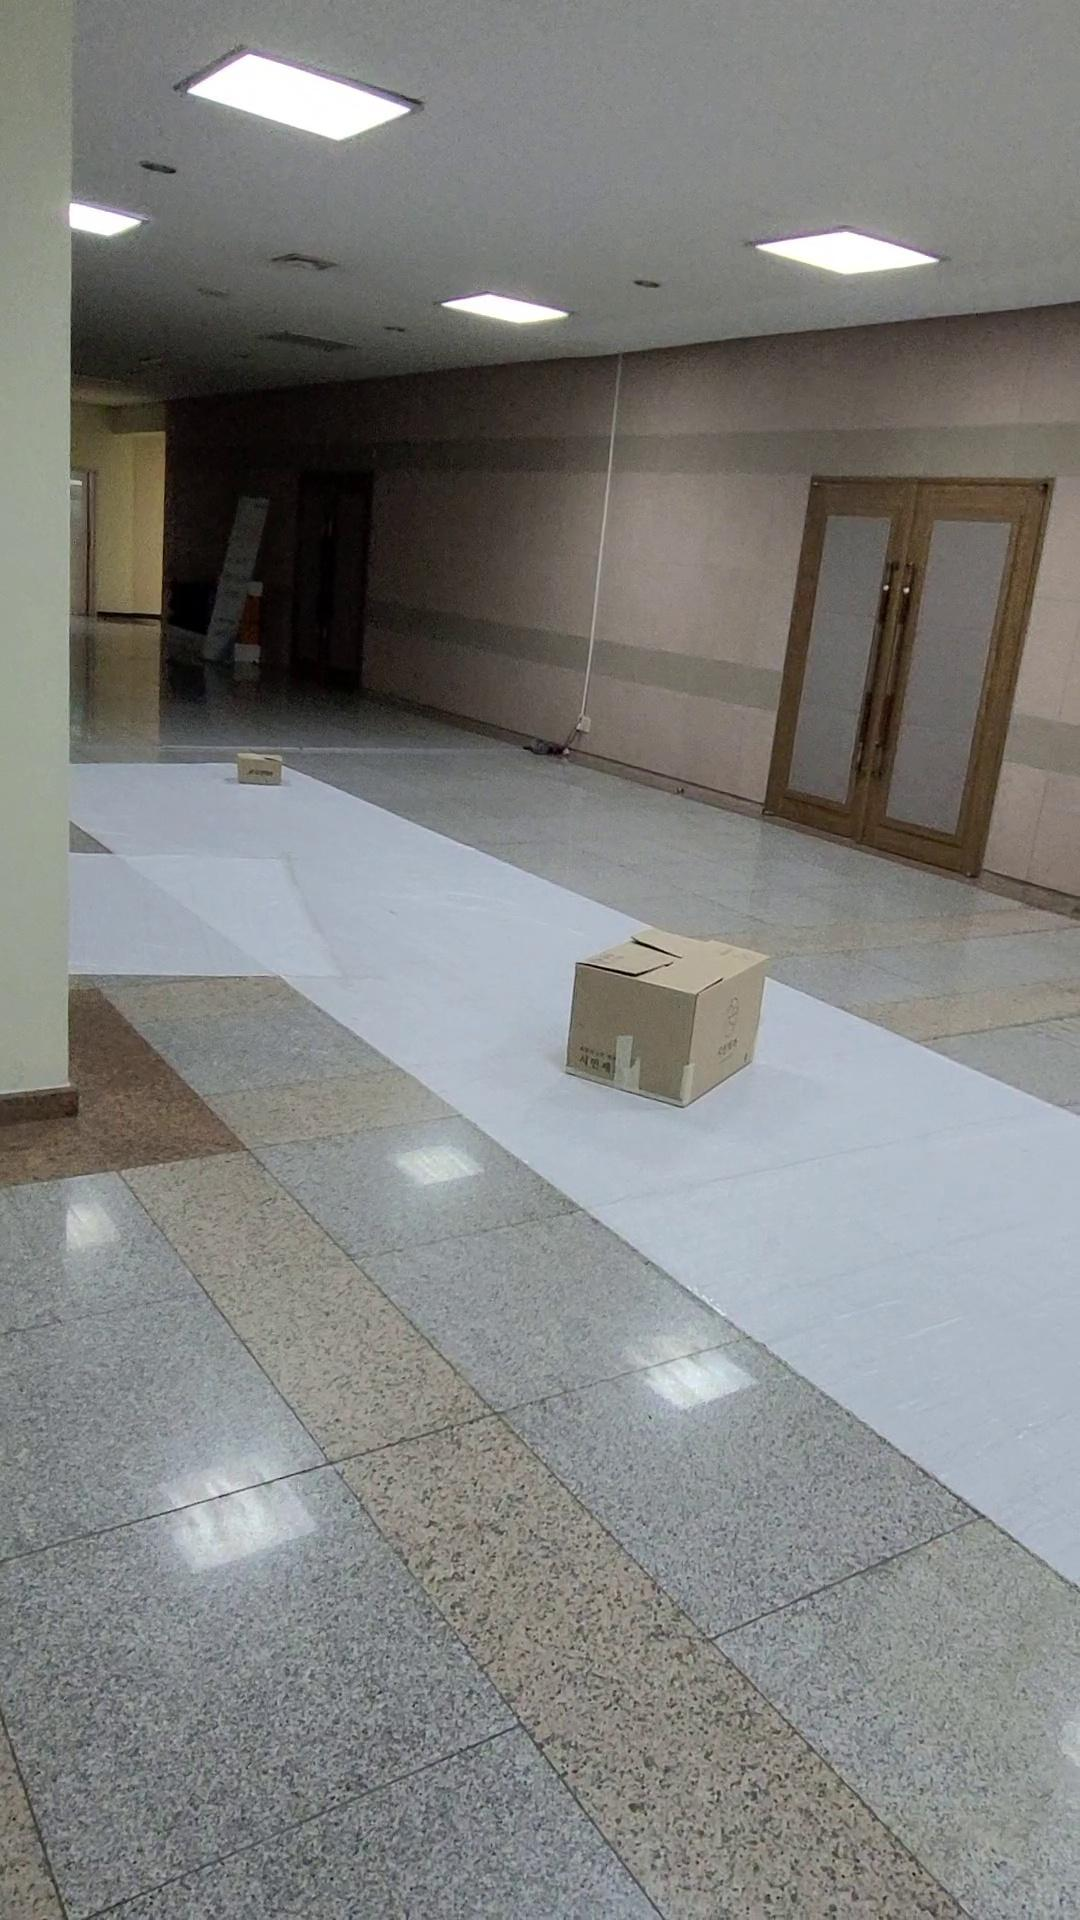Box: (549, 903, 782, 1113), (228, 742, 297, 783)
